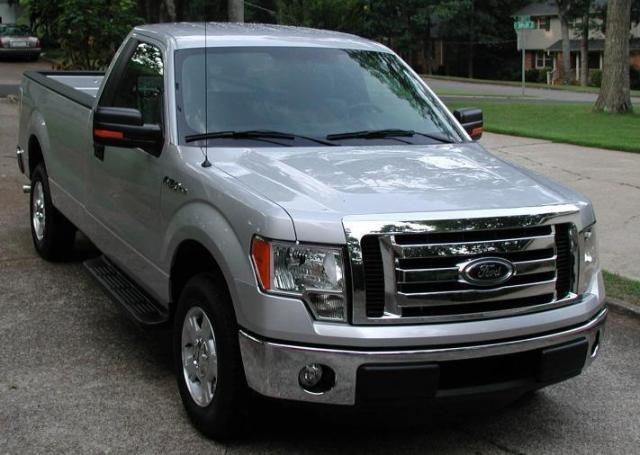pickup-truck: (15, 21, 609, 443)
